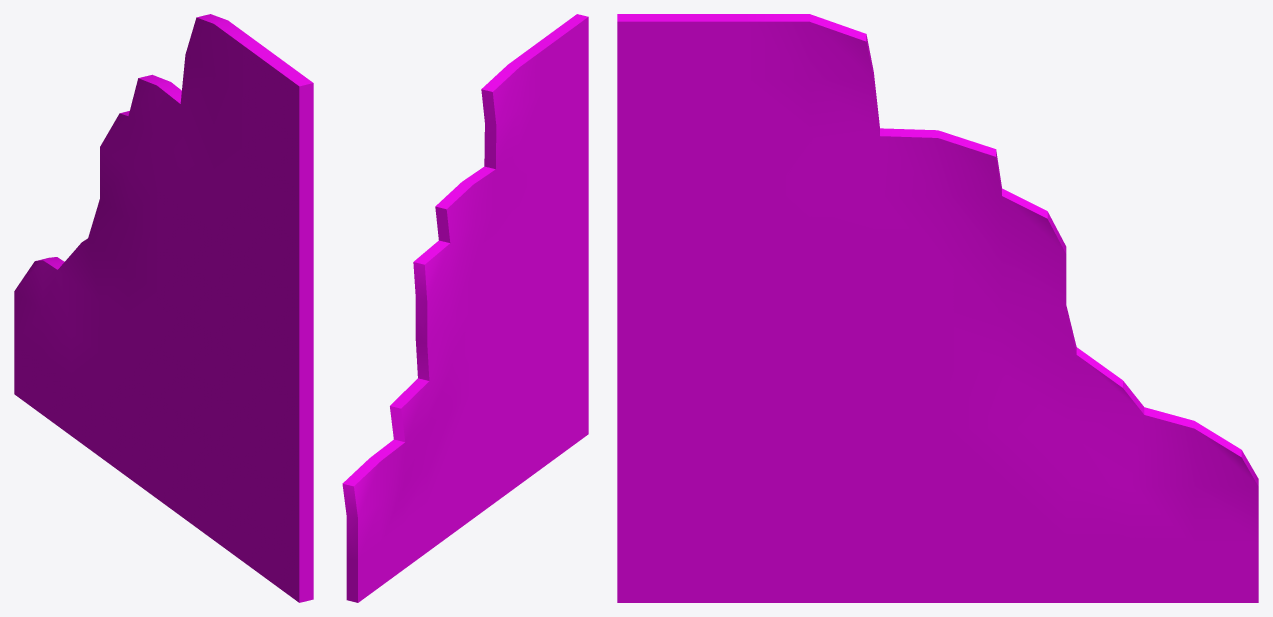
Rendered from Paper_1.obj.
3 views of the same model, side by side, from view 1: azimuth 30°, elevation 25°; view 2: azimuth 150°, elevation 25°; view 3: azimuth 270°, elevation 25° (orthographic). The views are drawn at different scales.
Parts seen in each view (by area): view 1: pPlane1; view 2: pPlane1; view 3: pPlane1.
Part boxes in pixels (box(x1,y1,x2,y2)): pPlane1: box(14, 14, 313, 602); pPlane1: box(342, 14, 588, 602); pPlane1: box(617, 14, 1258, 602).
Size of the model in its own units: 0.0698 by 1 by 1.
